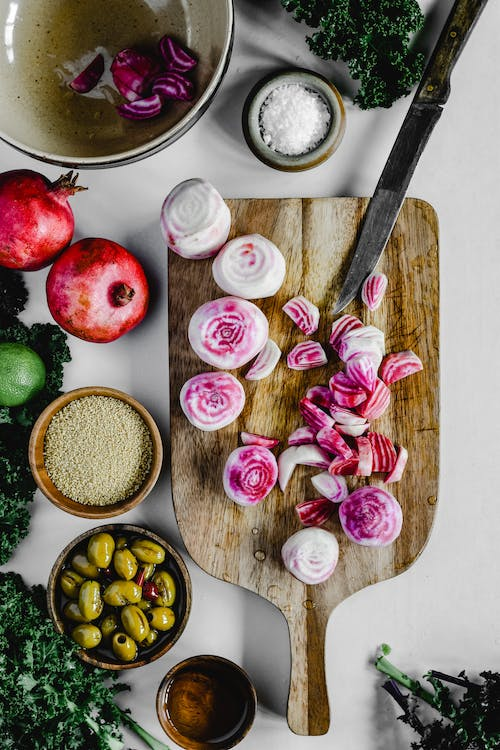knife: (329, 0, 491, 318)
